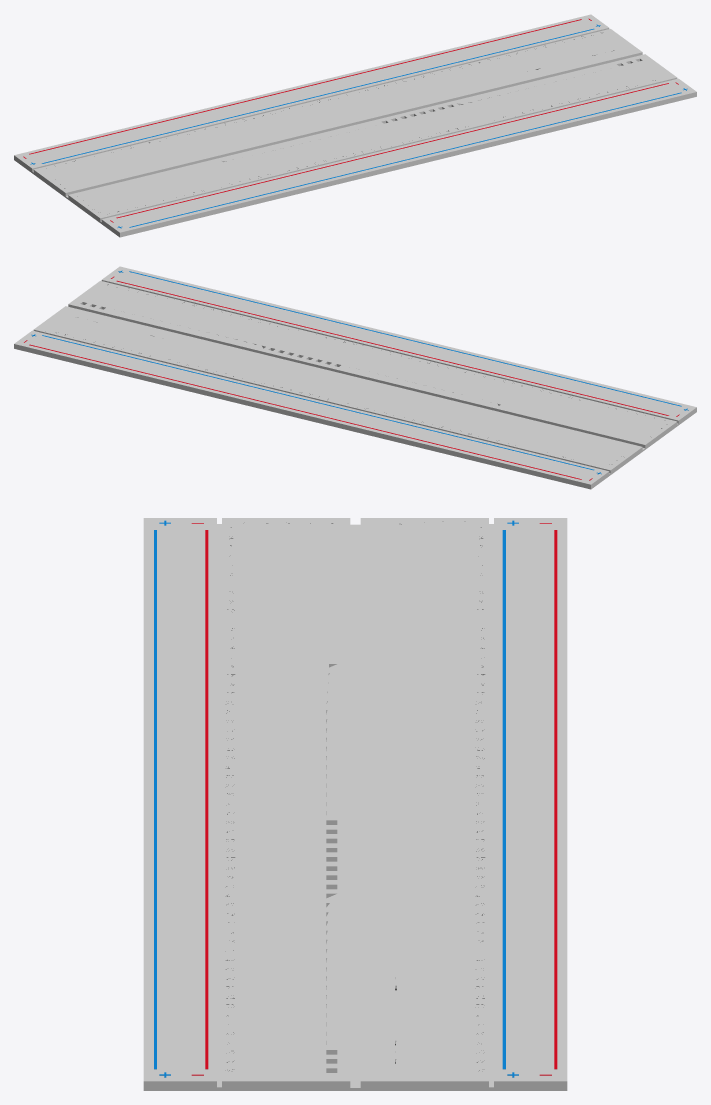
File: breadboard_meshed(1).fbx
3 views of the same model, one above another, from view 1: azimuth 30°, elevation 25°; view 2: azimuth 150°, elevation 25°; view 3: azimuth 270°, elevation 25° (orthographic). The views are drawn at different scales.
Visible parts, largest first — view 1: breadboard base; view 2: breadboard base; view 3: breadboard base.
Part boxes in pixels (x1,y1,x2,y2): breadboard base: (14,14,696,237); breadboard base: (14,266,696,489); breadboard base: (143,518,567,1090).
Size of the model in its own units: 456 by 3.74 by 145.
